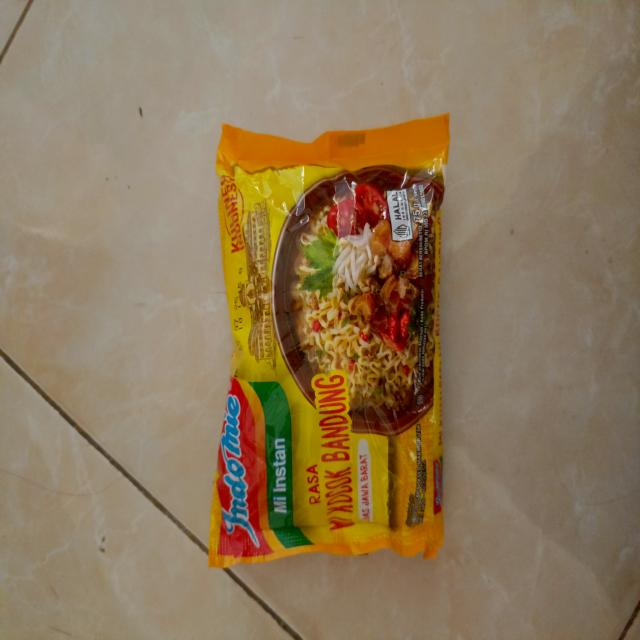indomie-mie-kocok-bandung: (210, 114, 446, 566)
